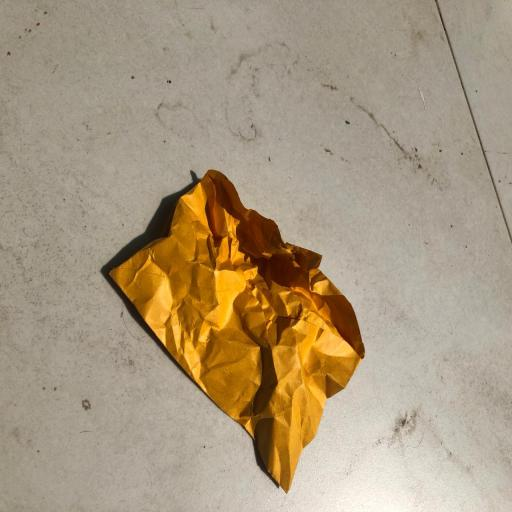waste: (89, 157, 367, 496)
